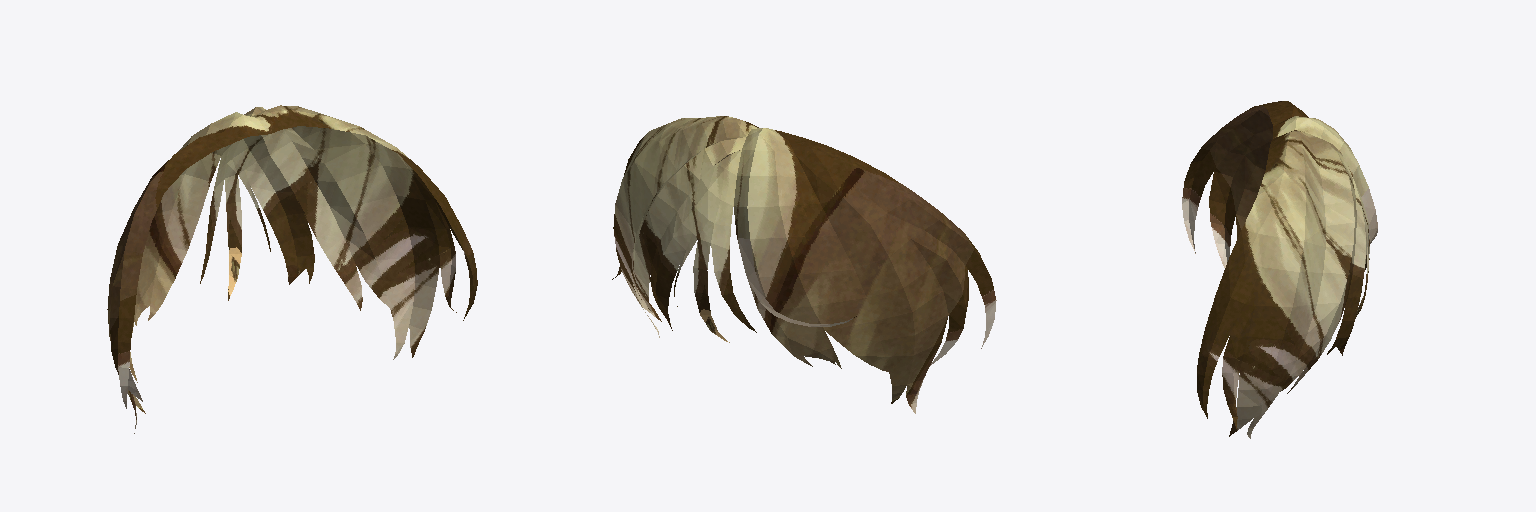
3 renders of one model, left to right at view 1: azimuth 30°, elevation 25°; view 2: azimuth 150°, elevation 25°; view 3: azimuth 270°, elevation 25°, orthographic.
Parts seen in each view (by area): view 1: skinSource0LKE; view 2: skinSource0LKE; view 3: skinSource0LKE.
Part boxes in pixels (bbox=[...]): skinSource0LKE: bbox=[107, 105, 477, 433]; skinSource0LKE: bbox=[612, 116, 996, 413]; skinSource0LKE: bbox=[1182, 101, 1377, 438].
Bounding box in the file's own units: 22.02 × 15.6 × 10.22.
1 materials, 1 textured.